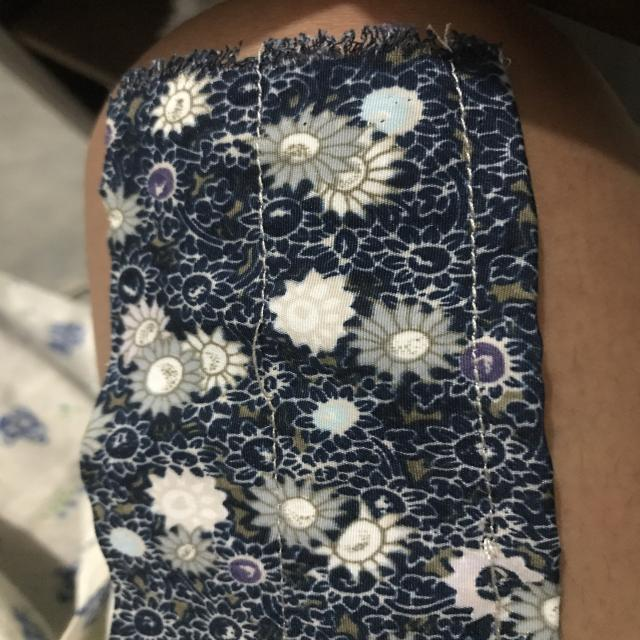good: (450, 175, 491, 317)
skip: (235, 290, 299, 430)
